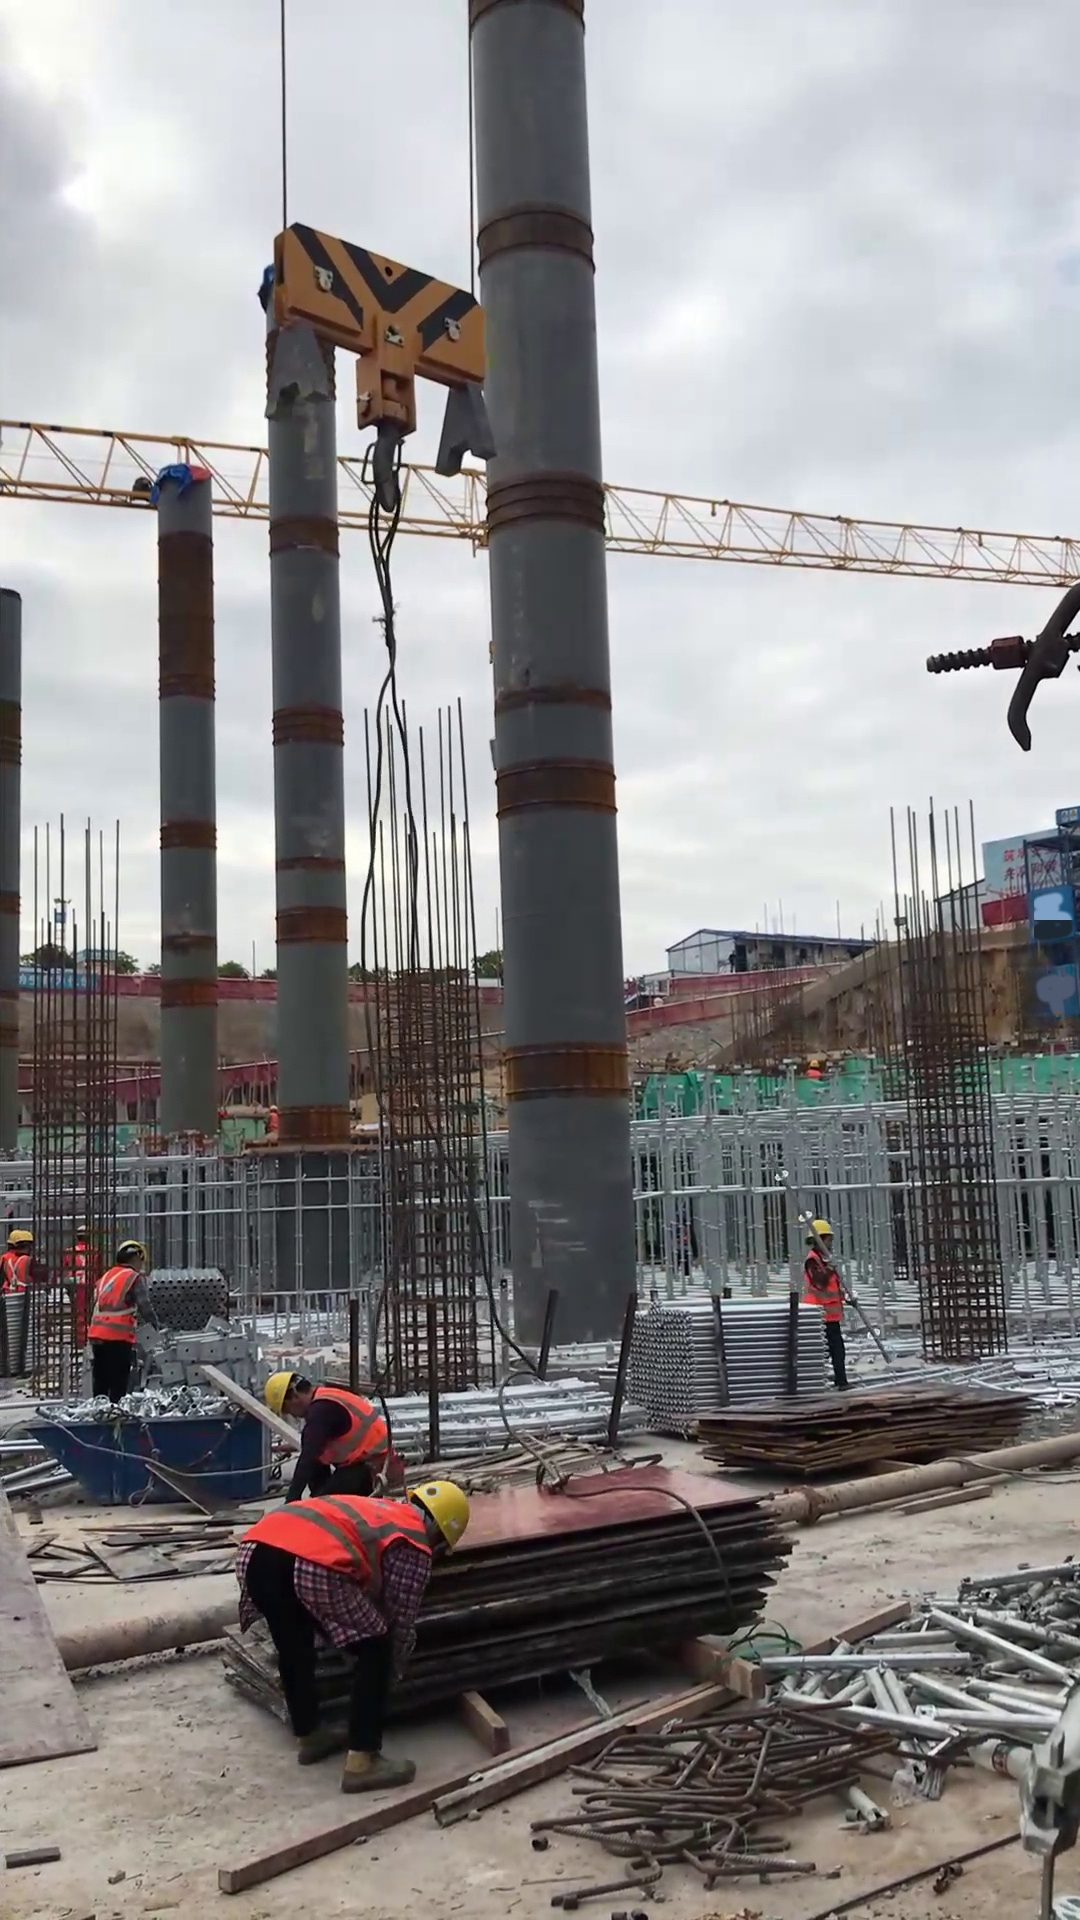board: (380, 1448, 811, 1734), (697, 1372, 1064, 1496)
helmet: (408, 1475, 471, 1558), (265, 1365, 299, 1419), (803, 1213, 839, 1247), (112, 1239, 149, 1265), (4, 1225, 36, 1250)
hook: (254, 213, 511, 520)
hopper: (40, 1398, 266, 1517)
person: (228, 1474, 482, 1797), (261, 1361, 401, 1513), (79, 1236, 158, 1404), (789, 1215, 855, 1396), (1, 1224, 43, 1306)
scaffold: (625, 1288, 836, 1433), (140, 1264, 237, 1339)
vest: (233, 1492, 433, 1581), (310, 1379, 386, 1479), (85, 1261, 146, 1350), (796, 1251, 850, 1328), (4, 1251, 36, 1296)
